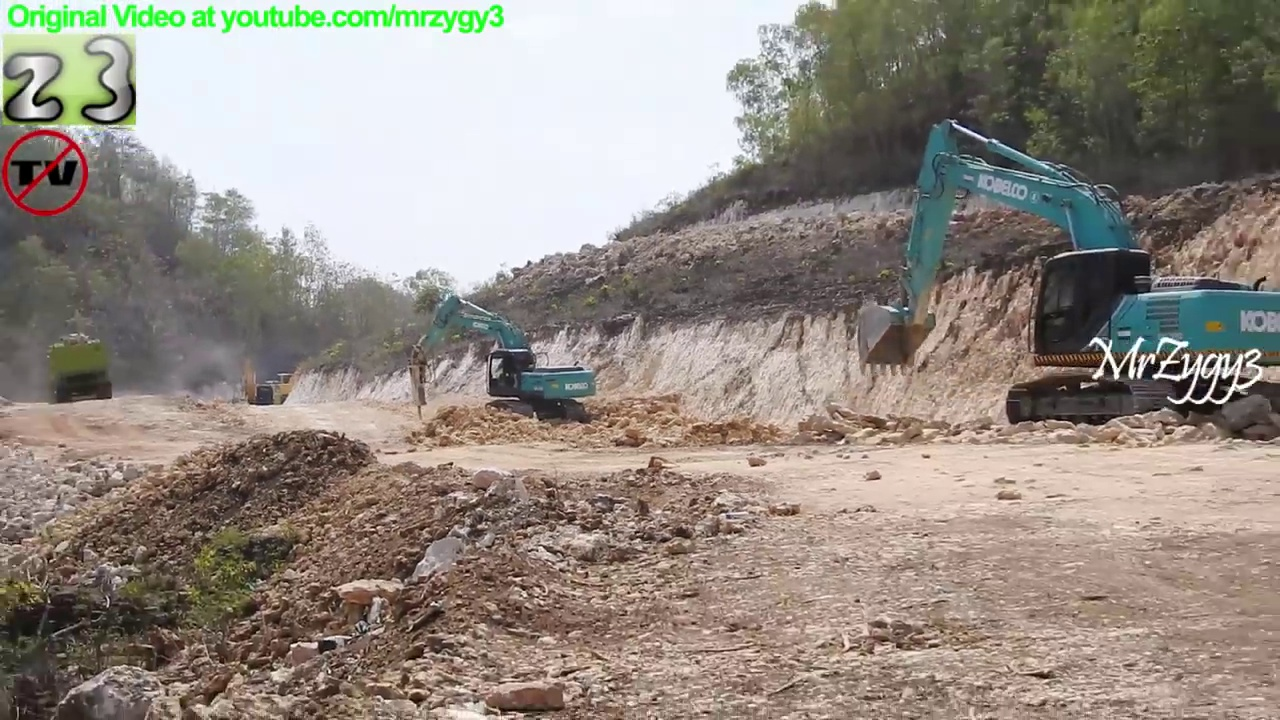excavator: (848, 114, 1280, 457), (265, 351, 329, 407), (236, 354, 278, 412)
excavator breaker: (399, 290, 602, 428)
truck: (44, 331, 116, 409)
